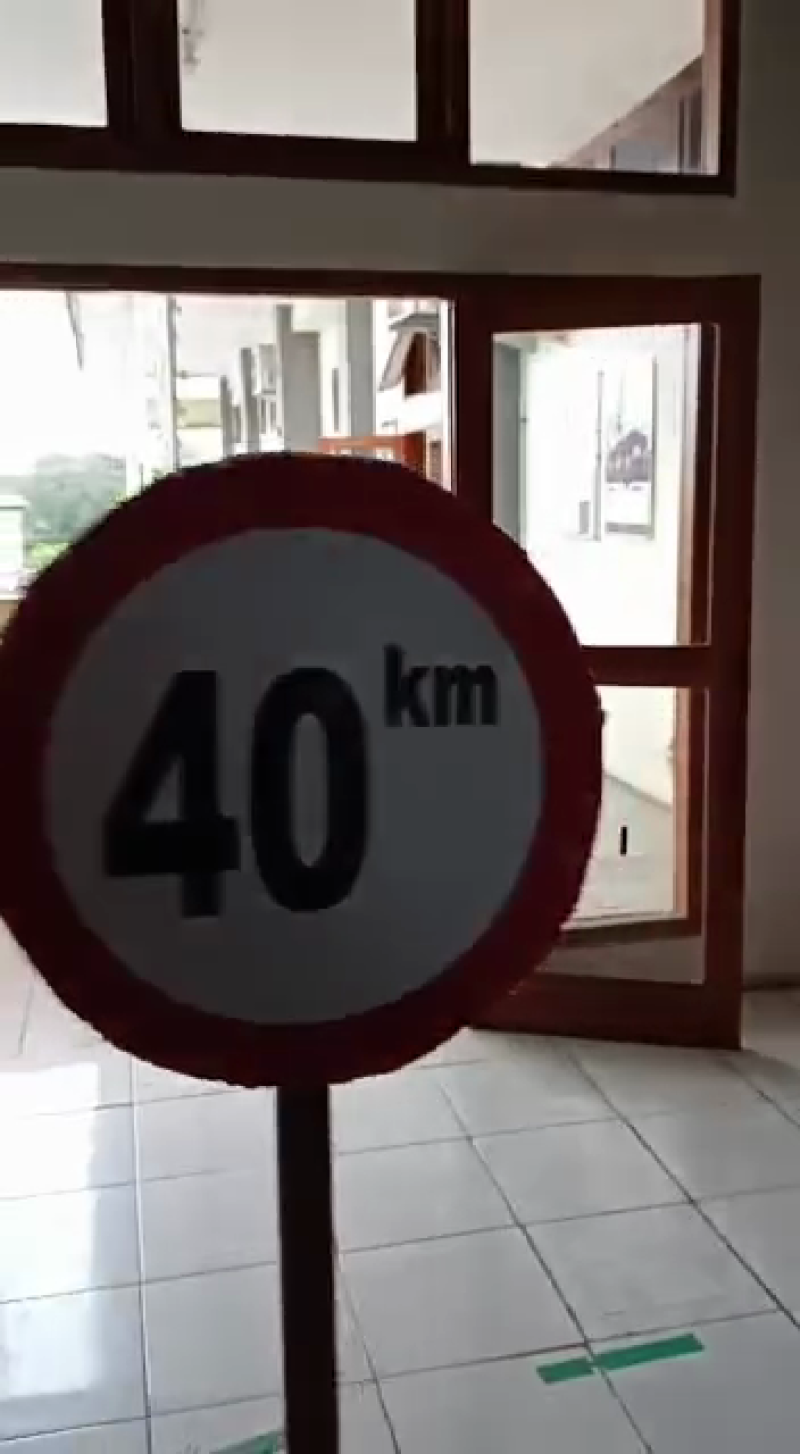batas maksimal 40kmperjam: (1, 457, 613, 1092)
